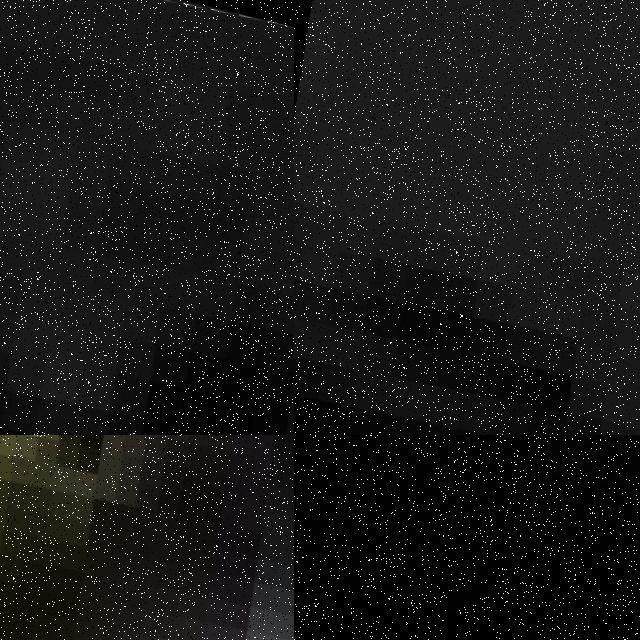drone: (294, 0, 640, 435), (0, 0, 294, 435), (0, 435, 294, 640)
